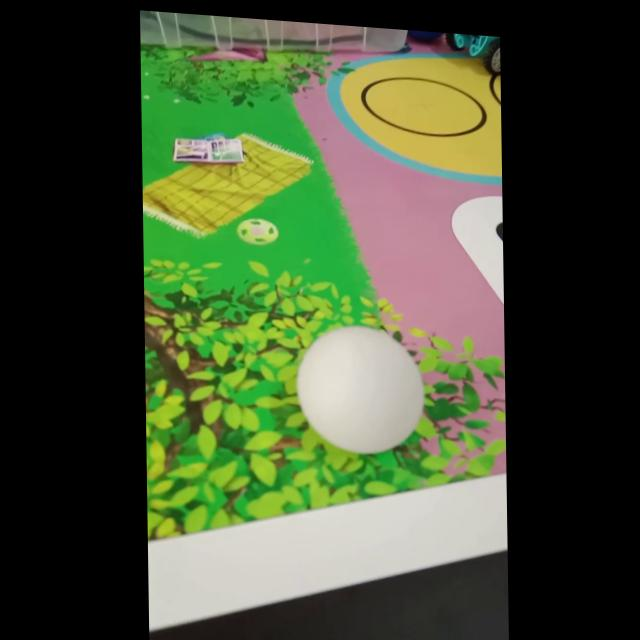white ball: (294, 319, 426, 459)
